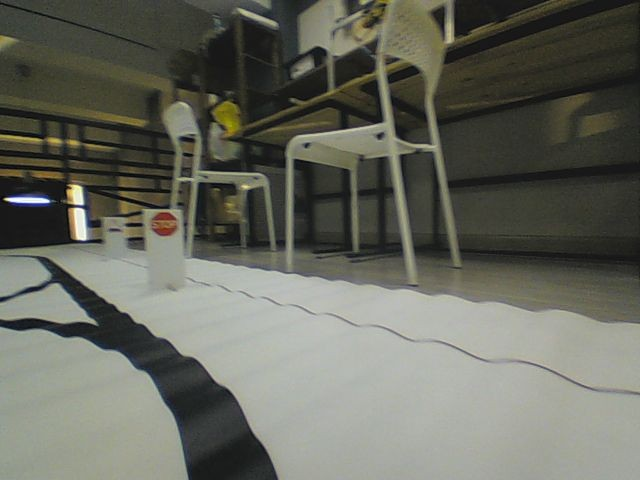Stop: (149, 210, 179, 238)
